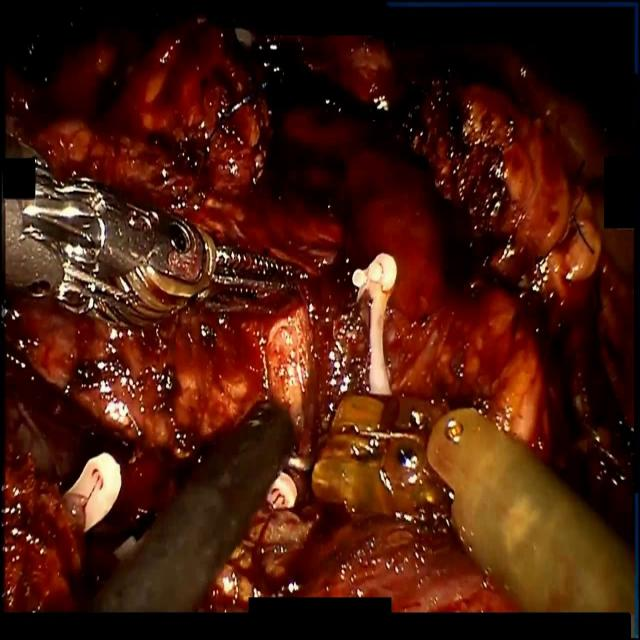surgical-area: (2, 0, 640, 619)
surgical-tool: (312, 393, 640, 619), (2, 142, 299, 331), (74, 398, 298, 615)
